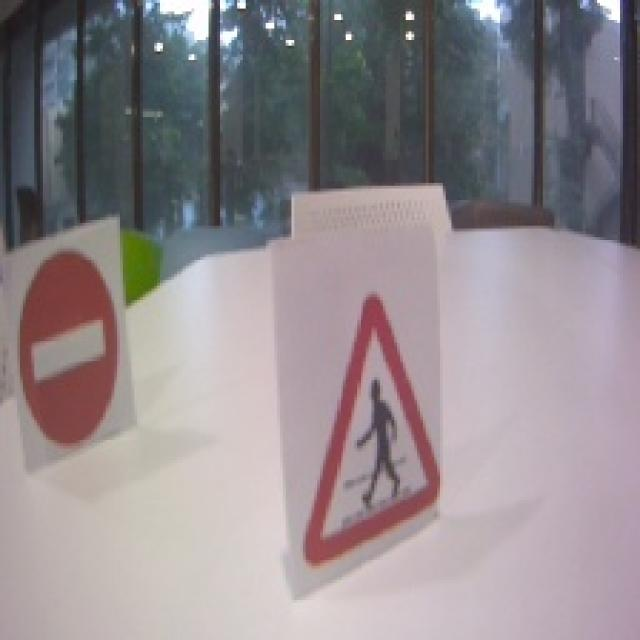DoNotEnterSign: (17, 247, 122, 451)
